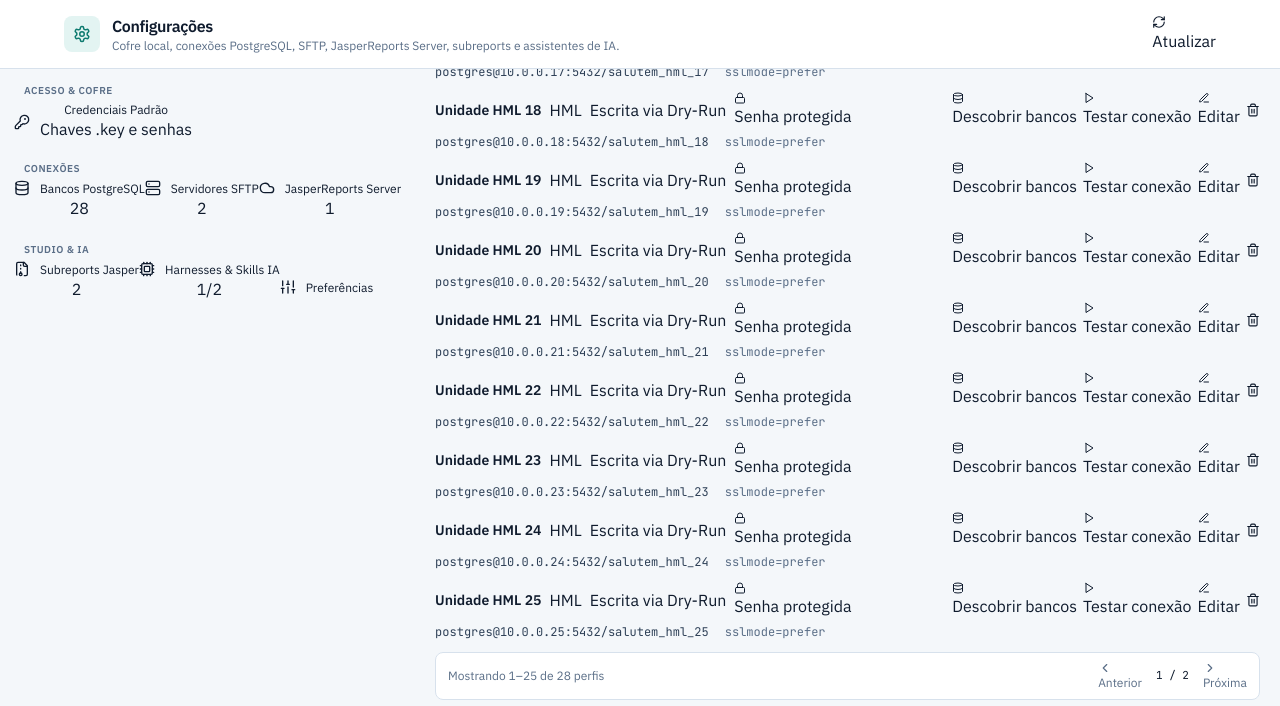
it: SettingsView › renders categorized sidebar groups and filters/paginates PostgreSQL profiles
(page scrolled)
Expected: the text "Acesso & Cofre" is shown, [24,84,113,97]
Expected: the text "Conexões" is shown, [24,162,80,175]
Go to page 2
Click the button "Próxima".
click(1225, 676)  # box [1203,660,1247,690]
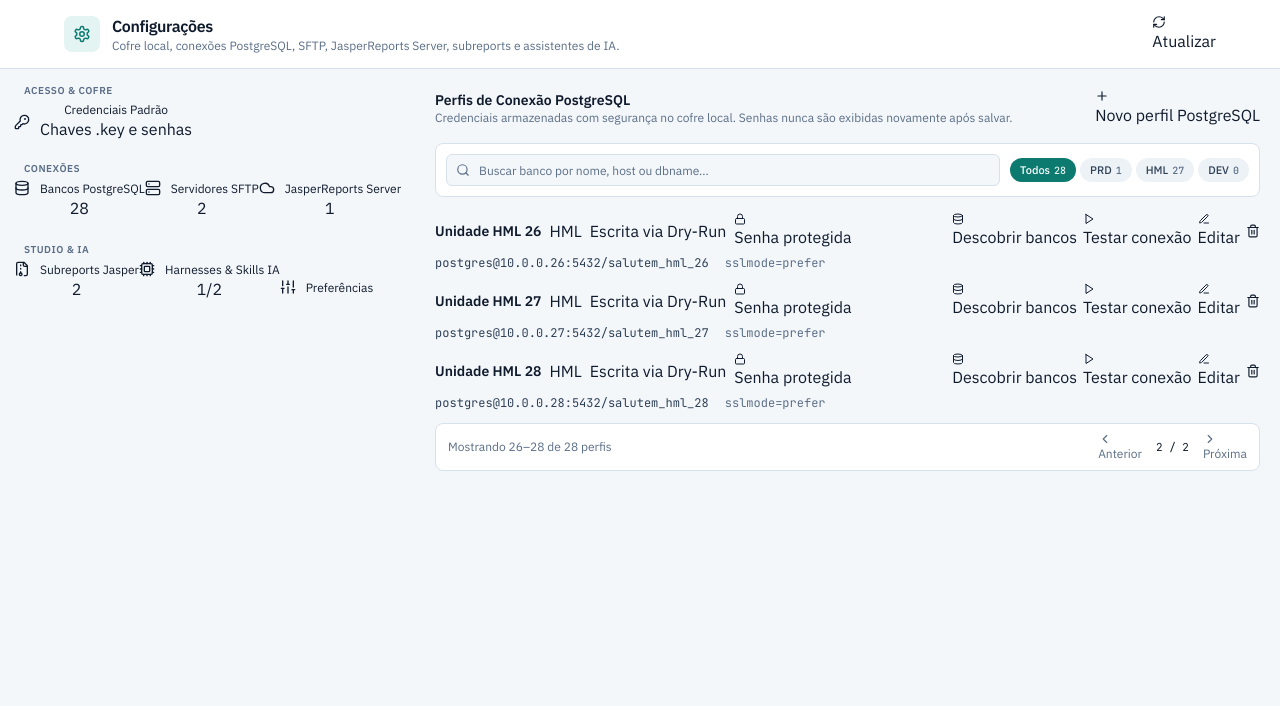
Now the text "Unidade HML 28" is shown, box [435,361,542,381]
Click the button "PRD 1".
click(1106, 170)  # box [1080,158,1132,182]
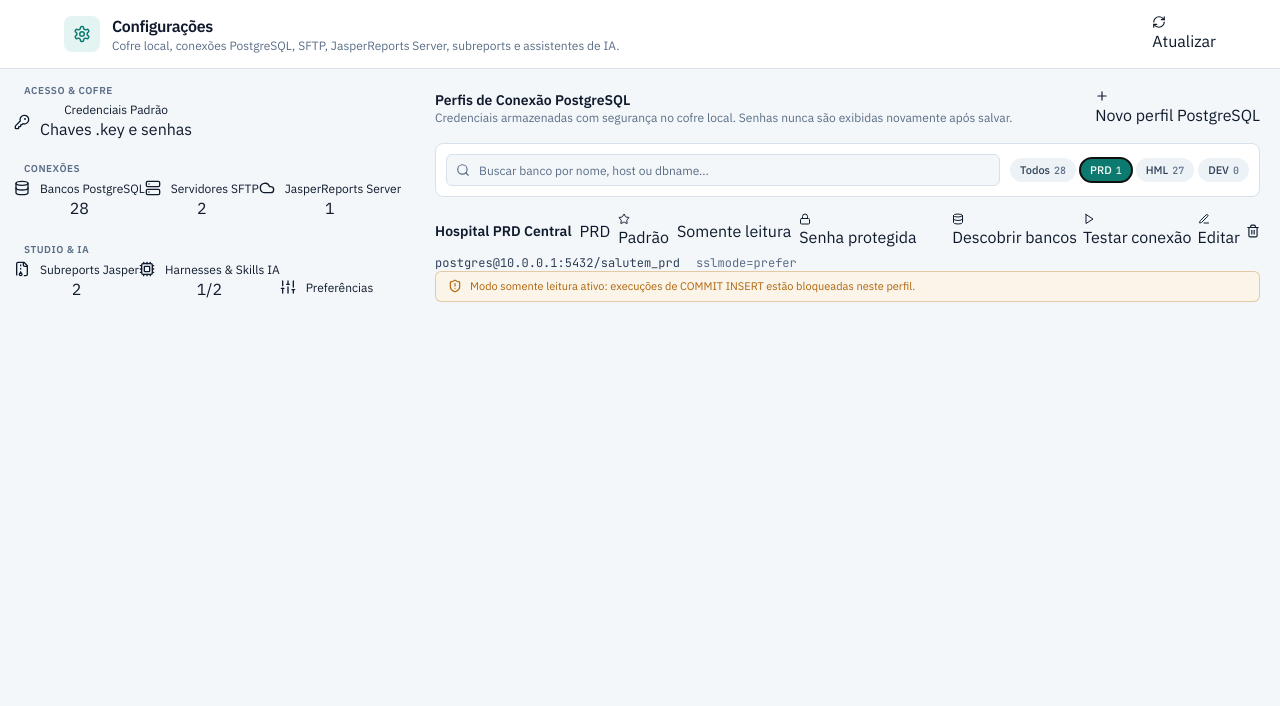
Now the text "Hospital PRD Central" is shown, box [435,221,572,241]
Now the text "Unidade HML 28" is gone
Search by dbname
Click the button "Todos 28".
click(1043, 170)  # box [1010,158,1076,182]
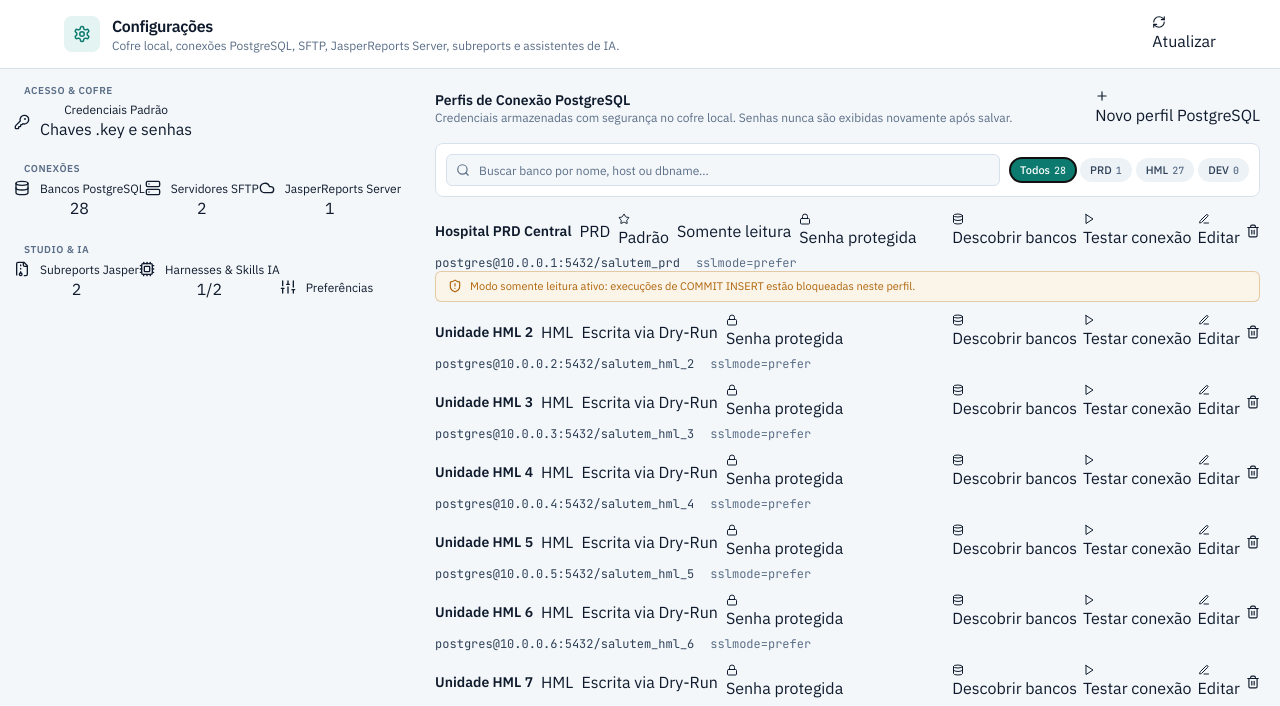
Type "salutem_hml_28" into the field named "Buscar perfis PostgreSQL".
click(723, 170); type("salutem_hml_28")  # box [446,154,1000,186]
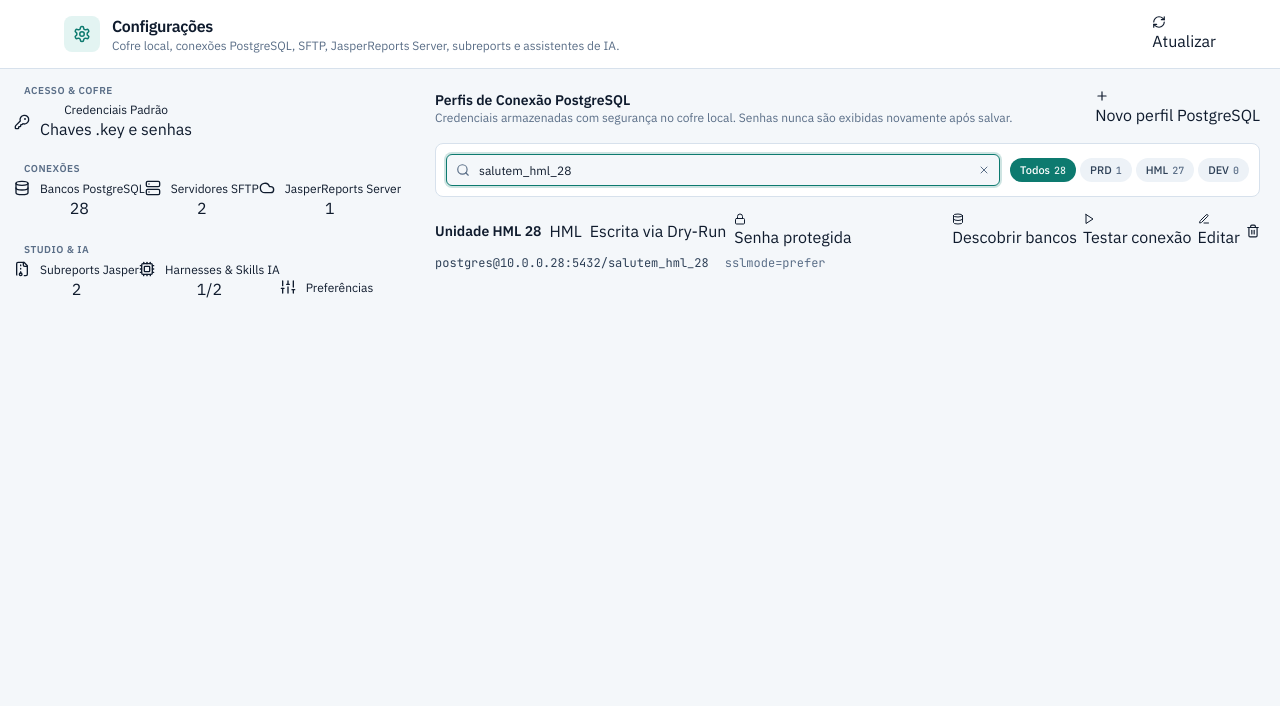
Now the text "Unidade HML 28" is shown, box [435,221,542,241]
Now the text "Hospital PRD Central" is gone
